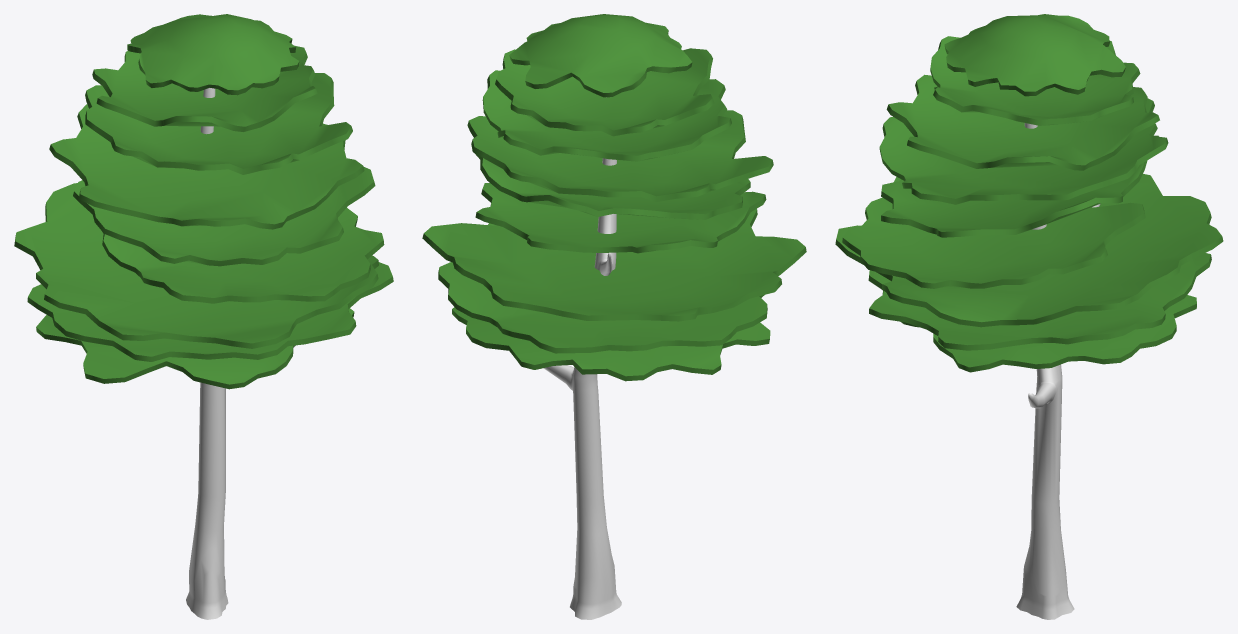
Rendered from birchtree_01.fbx.
The picture shows the model from 3 angles, left to right: view 1: azimuth 30°, elevation 25°; view 2: azimuth 150°, elevation 25°; view 3: azimuth 270°, elevation 25°; orthographic projection.
Parts seen in each view (by area): view 1: birch_leaves, birch_trunk; view 2: birch_leaves, birch_trunk; view 3: birch_leaves, birch_trunk.
Part boxes in pixels (x1=…): birch_leaves: x1=14, y1=14, x2=393, y2=389; birch_trunk: x1=186, y1=88, x2=295, y2=619; birch_leaves: x1=422, y1=14, x2=806, y2=381; birch_trunk: x1=544, y1=97, x2=621, y2=619; birch_leaves: x1=835, y1=14, x2=1223, y2=372; birch_trunk: x1=1016, y1=123, x2=1100, y2=619.
Size of the model in its own units: 314 by 556 by 336.
